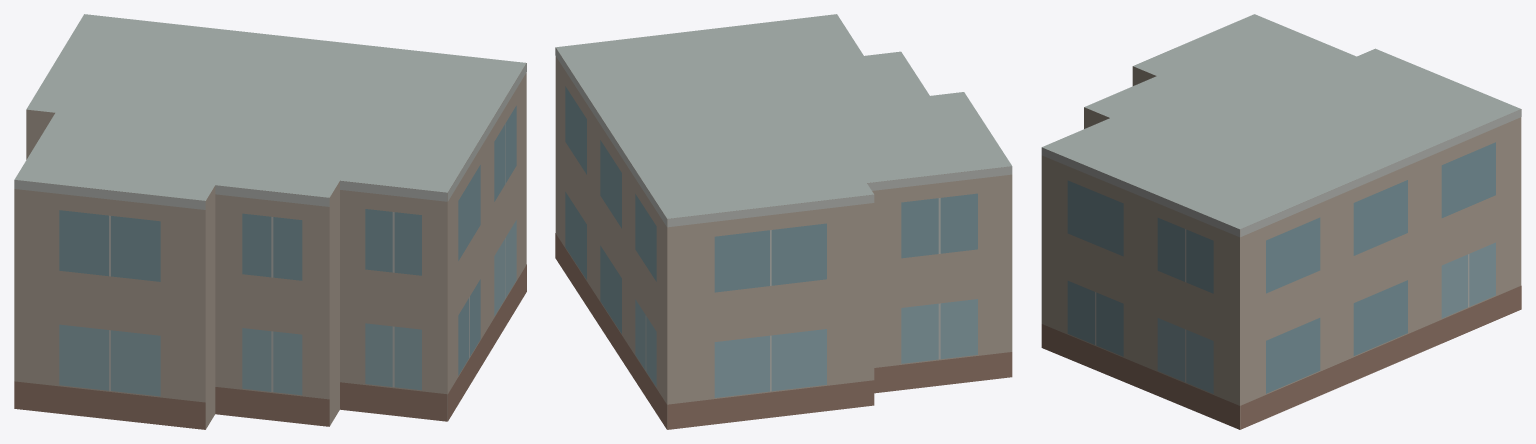
File: survey-upis-32823616.glb
3 views of the same model, side by side, from view 1: azimuth 30°, elevation 25°; view 2: azimuth 150°, elevation 25°; view 3: azimuth 270°, elevation 25° (orthographic). The views are drawn at different scales.
Parts seen in each view (by area): view 1: survey-upis-32823616.tmp; view 2: survey-upis-32823616.tmp; view 3: survey-upis-32823616.tmp.
Part boxes in pixels (bbox=[...]): survey-upis-32823616.tmp: bbox=[14, 14, 526, 429]; survey-upis-32823616.tmp: bbox=[555, 14, 1012, 429]; survey-upis-32823616.tmp: bbox=[1041, 14, 1521, 429].
Bounding box in the file's own units: 14.06 × 6.1 × 13.24.
